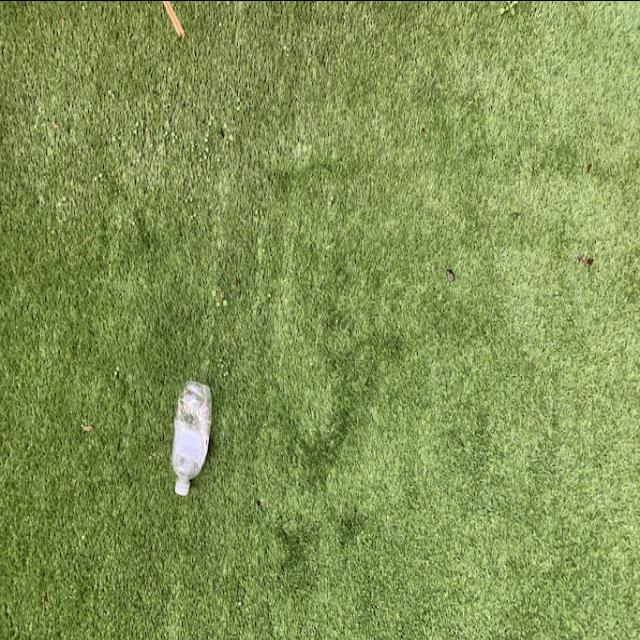PET: (174, 378, 214, 492)
